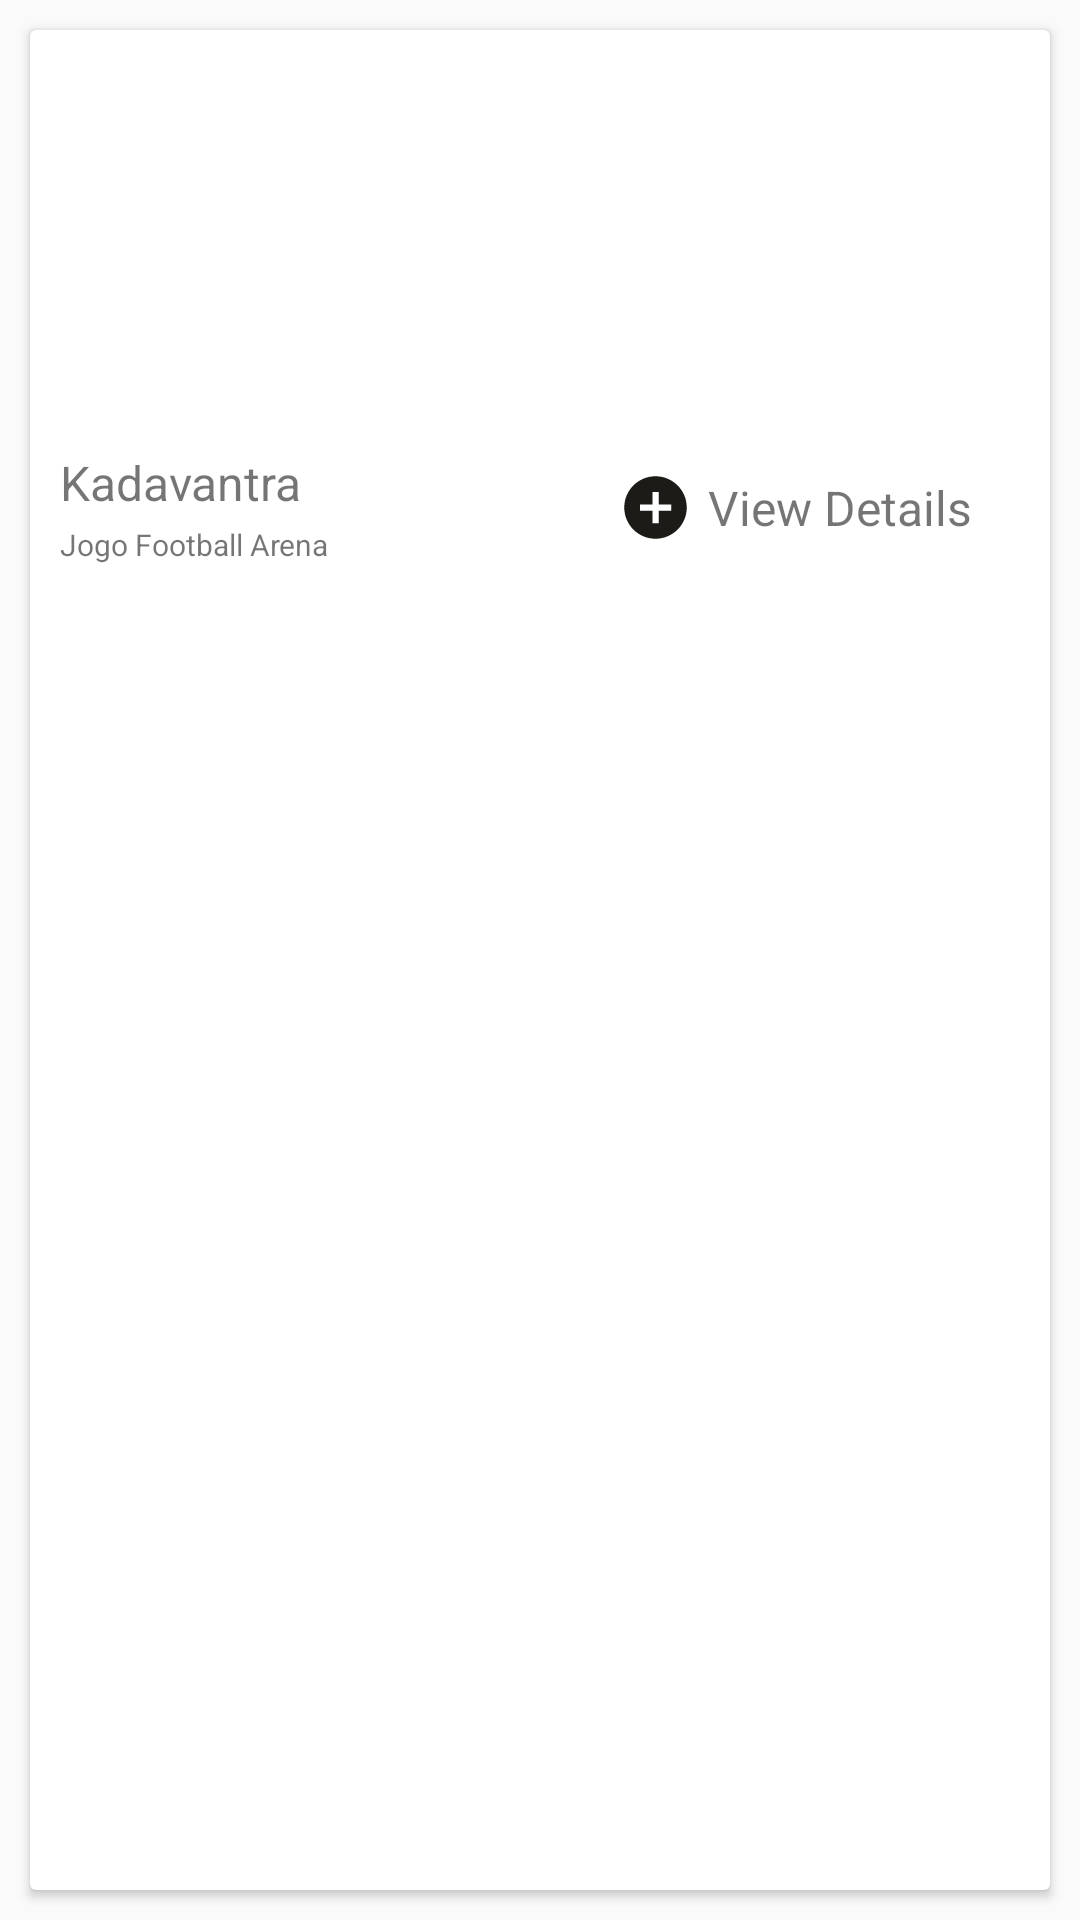

Named icons in this screenshot (1080×1920) and their bounding boxes, (x1, y1, x2, y2):
add circle: (624, 476, 687, 539)
